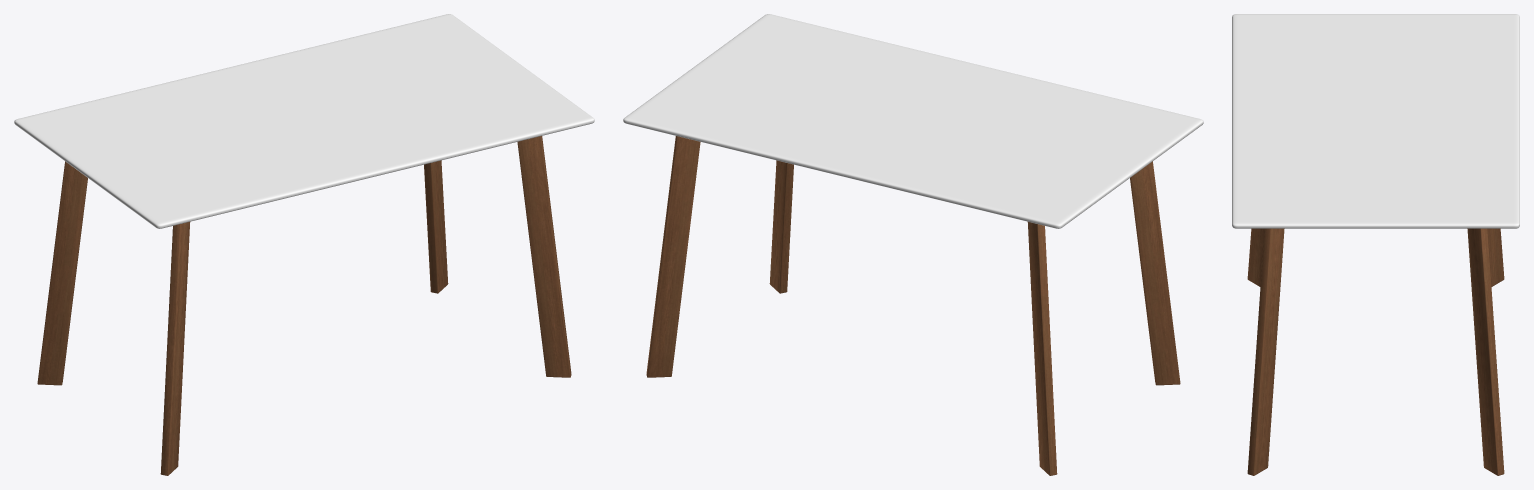
Rendered from table_06_01.001.fbx.
The picture shows the model from 3 angles, left to right: view 1: azimuth 30°, elevation 25°; view 2: azimuth 150°, elevation 25°; view 3: azimuth 270°, elevation 25°; orthographic projection.
Parts seen in each view (by area): view 1: table_06_01.001; view 2: table_06_01.001; view 3: table_06_01.001.
Part boxes in pixels (bbox=[...]): table_06_01.001: bbox=[14, 14, 594, 475]; table_06_01.001: bbox=[623, 14, 1203, 475]; table_06_01.001: bbox=[1232, 14, 1519, 475].
Bounding box in the file's own units: 128 × 72.77 × 73.54.
Materials: 1 (1 with a texture image).
